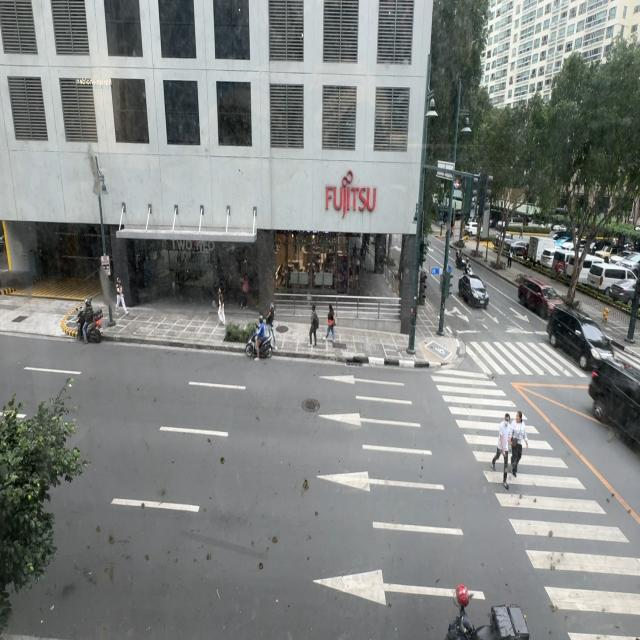crossing: (506, 408, 528, 475), (491, 412, 511, 484)
